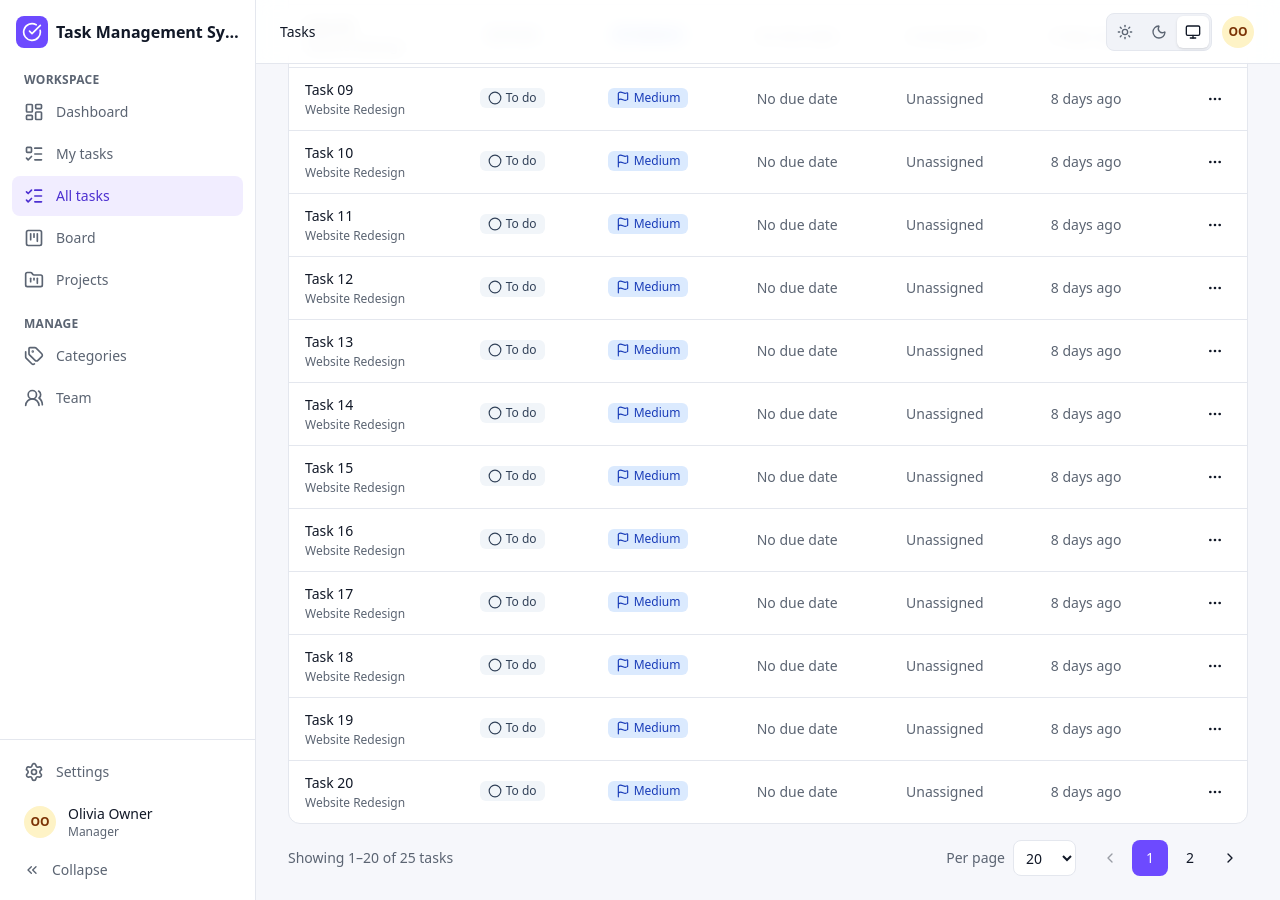
Test: Task lists › pages through long lists and changes the page size (both on the server, in the URL)
This screenshot has width=1280, height=900.
(page scrolled)
Check: the text "Showing 1–20 of 25 tasks" is shown, box [288,848,453,868]
Click the button named "Page 2".
click(1190, 858)  # box [1172,840,1208,876]
(page scrolled)
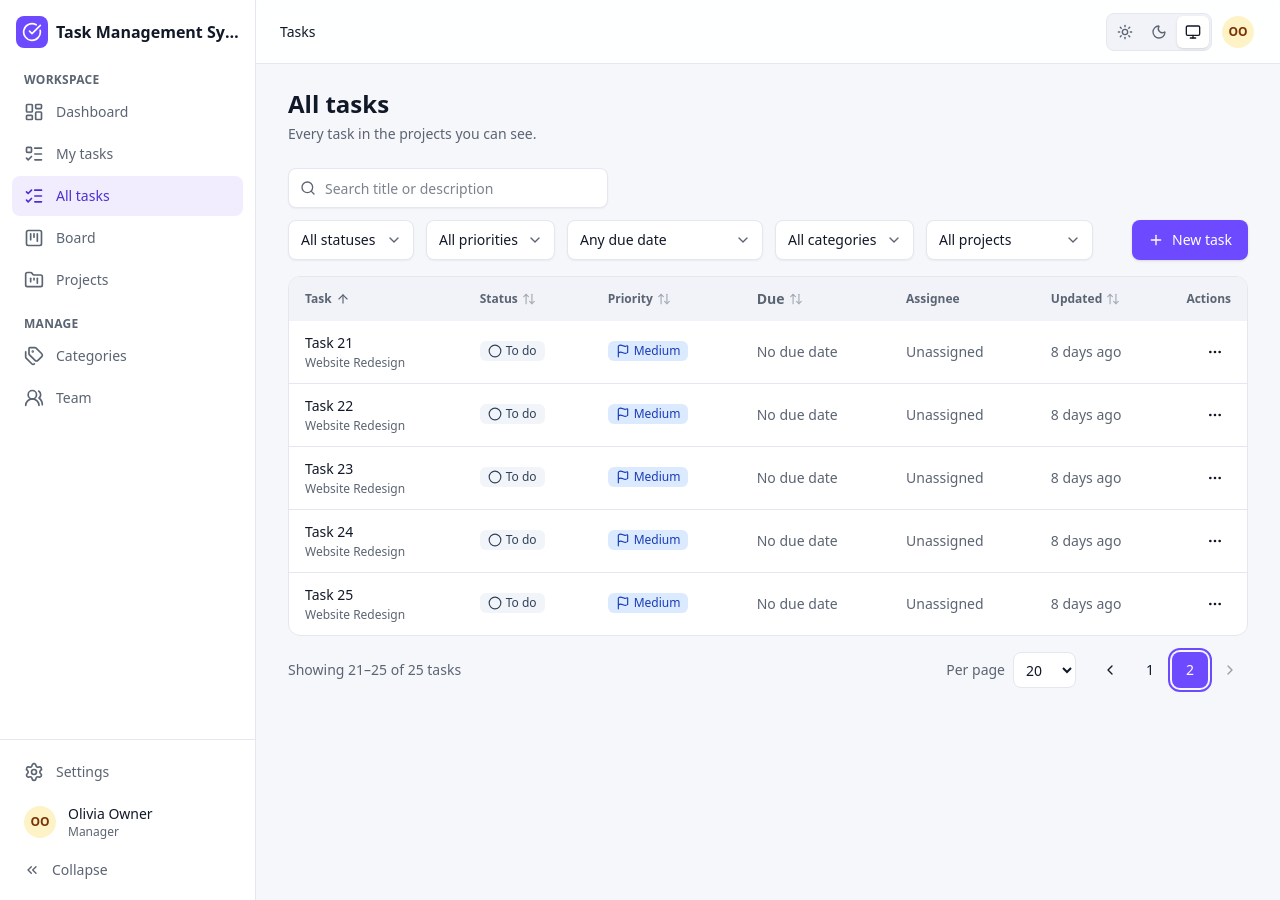
Check: the text "Showing 21–25 of 25 tasks" is shown, box [288,660,461,680]
Select "50" in the dropdown labelled "Per page" at (1044, 670), box [1013,652,1076,688]
(page scrolled)
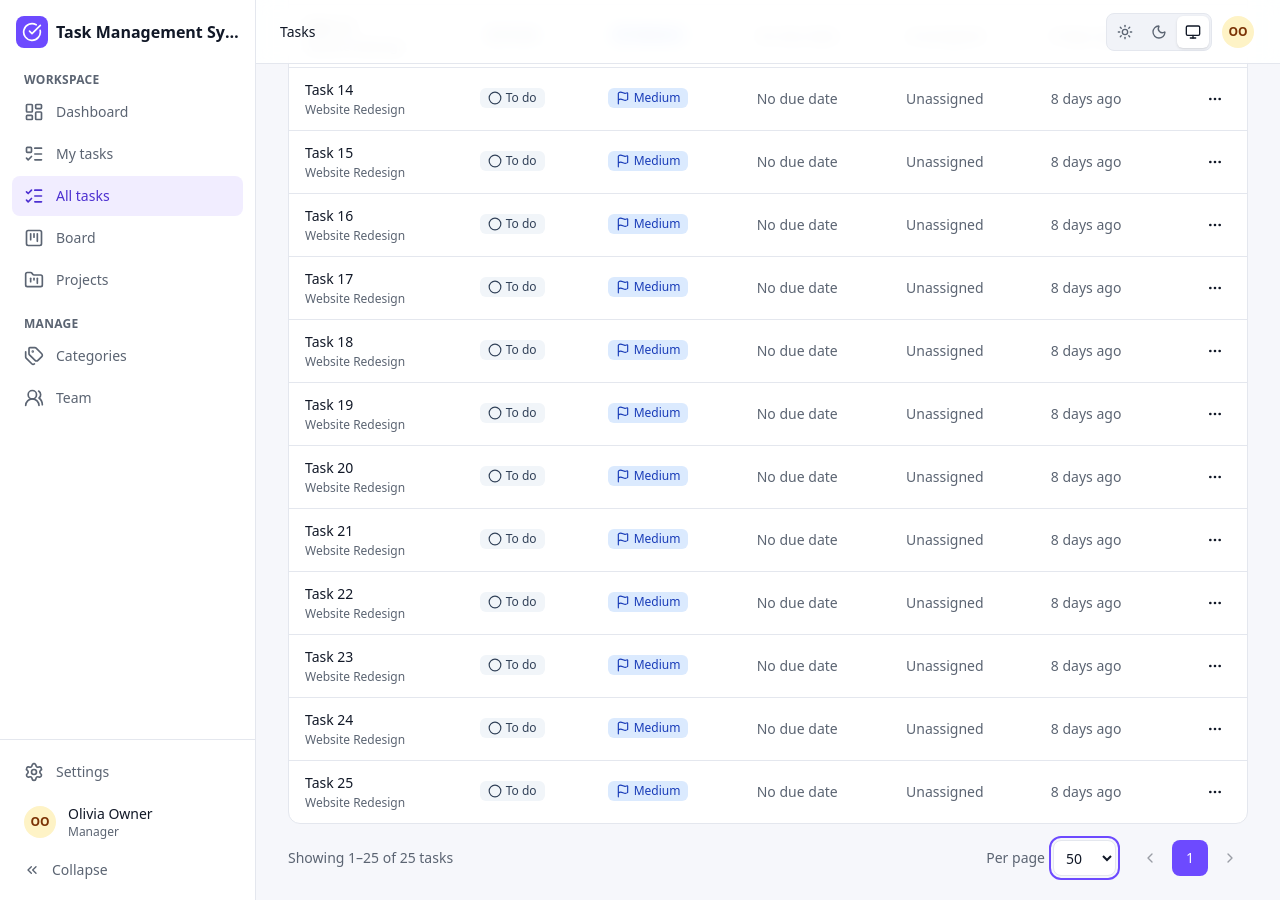
Check: the text "Showing 1–25 of 25 tasks" is shown, box [288,848,453,868]
